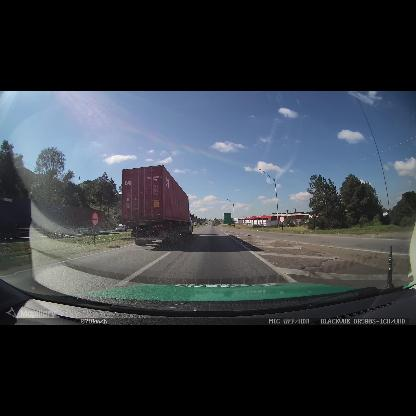R-2: (312, 213, 317, 219)
R-24a: (91, 212, 99, 226), (279, 216, 285, 222)
